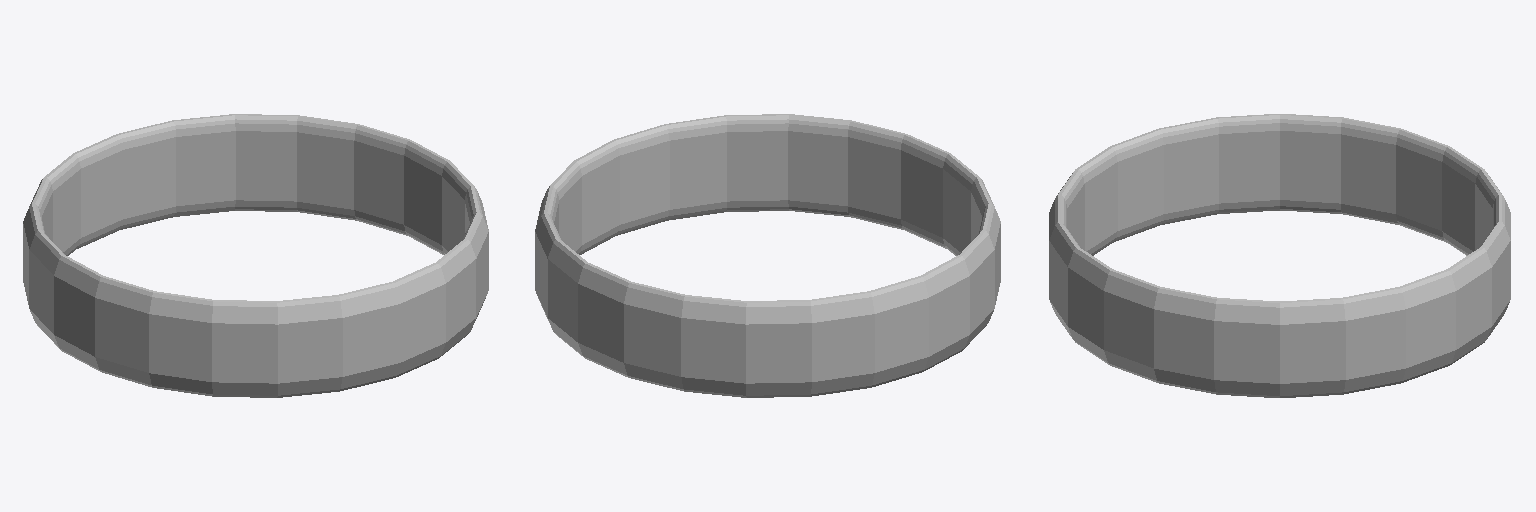
File: TheOneRingExport.obj
The picture shows the model from 3 angles: view 1: azimuth 30°, elevation 25°; view 2: azimuth 150°, elevation 25°; view 3: azimuth 270°, elevation 25°; orthographic projection.
Visible parts, largest first — view 1: pTorus1; view 2: pTorus1; view 3: pTorus1.
Boxes of the visible parts, x1=… form: pTorus1: x1=23, y1=114, x2=488, y2=397; pTorus1: x1=535, y1=114, x2=1000, y2=397; pTorus1: x1=1049, y1=114, x2=1510, y2=397.
Bounding box in the file's own units: 0.5721 × 0.1295 × 0.5663.